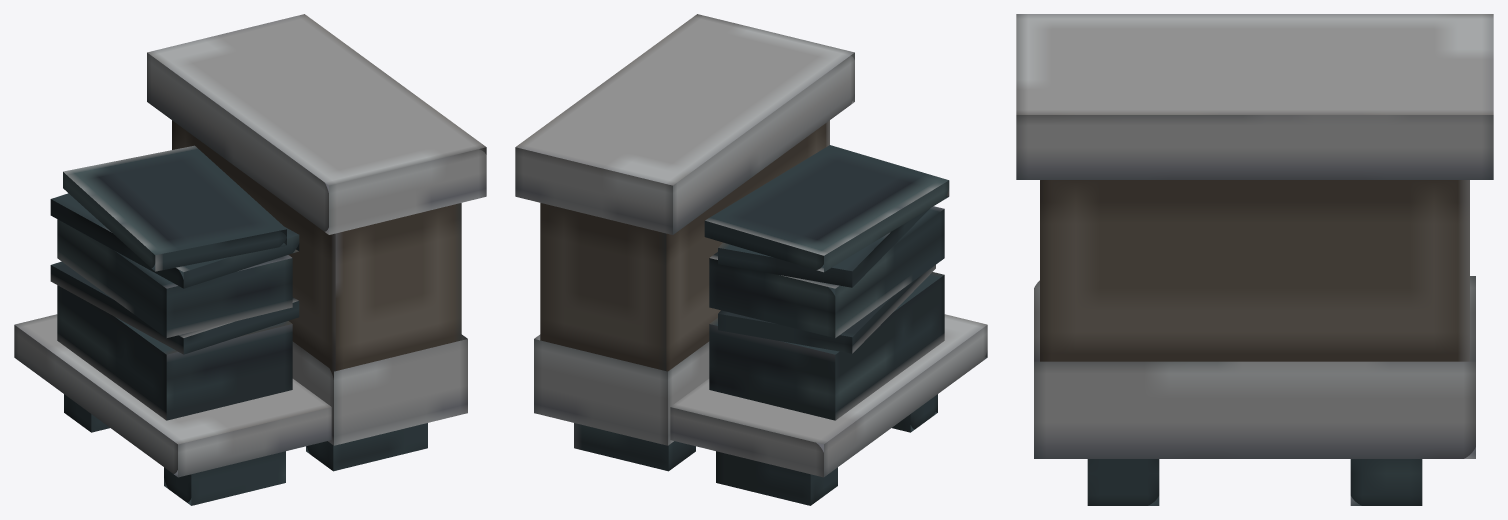
Rendered from board_holder.fbx.
The picture shows the model from 3 angles, left to right: view 1: azimuth 30°, elevation 25°; view 2: azimuth 150°, elevation 25°; view 3: azimuth 270°, elevation 25°; orthographic projection. The views are drawn at different scales.
Parts seen in each view (by area): view 1: cube; view 2: cube; view 3: cube.
Part boxes in pixels (x1,y1,x2,y2): cube: (14, 14, 486, 505); cube: (515, 14, 987, 505); cube: (1016, 14, 1493, 505).
Size of the model in its own units: 119 by 119 by 125.
1 material, 1 textured.
